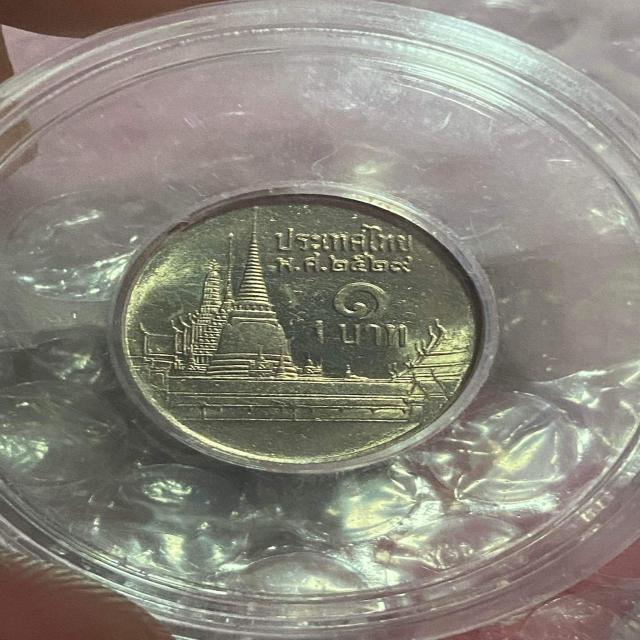1 Bath: (102, 181, 490, 475)
